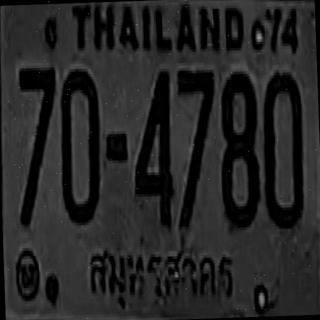N00: (260, 69, 305, 229), (57, 67, 102, 224)
N04: (130, 68, 174, 226)
N07: (14, 64, 60, 227), (175, 67, 218, 230)
N08: (217, 69, 260, 229)
P58: (80, 238, 244, 320)
